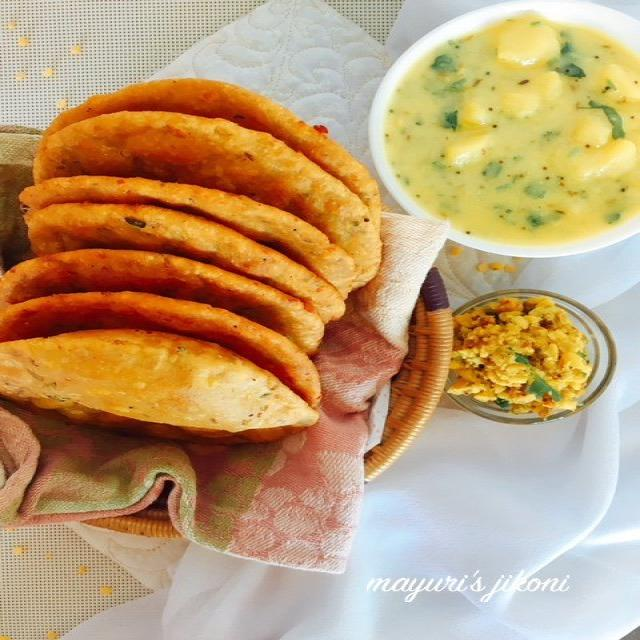potato: (428, 44, 639, 231)
puri: (10, 92, 364, 440)
